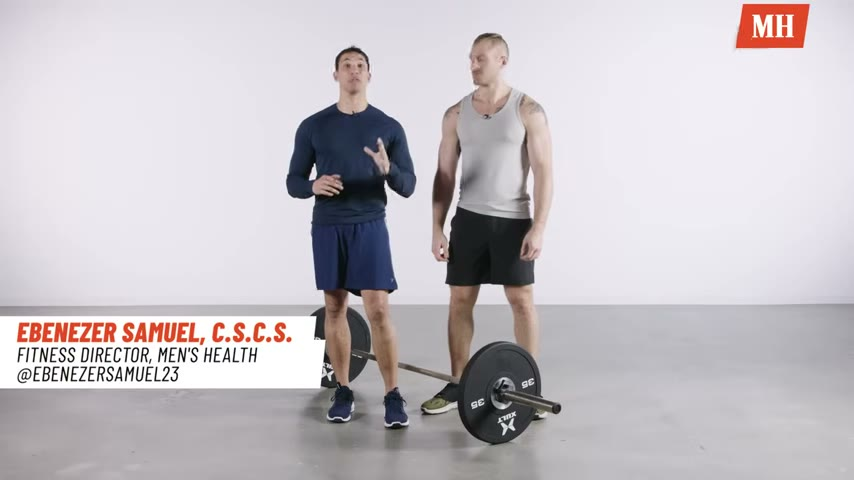barbell_plate_side: (503, 339, 563, 450)
